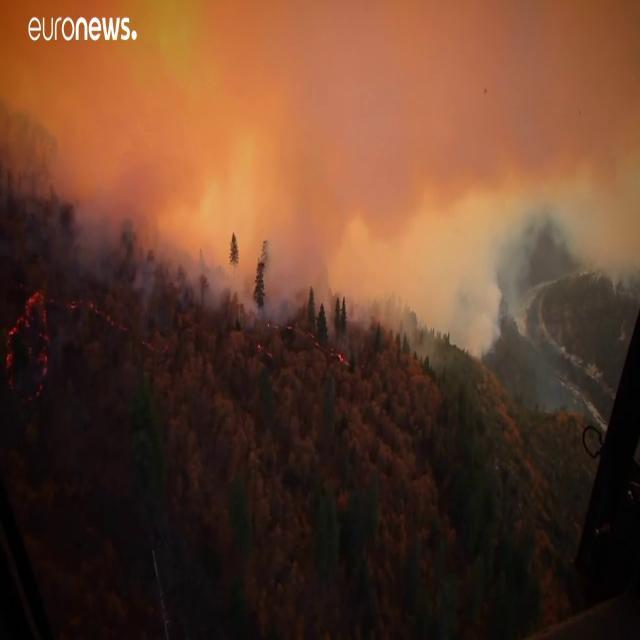Fire: (4, 288, 52, 396), (332, 350, 348, 364)
Smoke: (332, 4, 638, 370), (149, 213, 307, 364), (542, 307, 579, 373), (509, 268, 541, 339)
